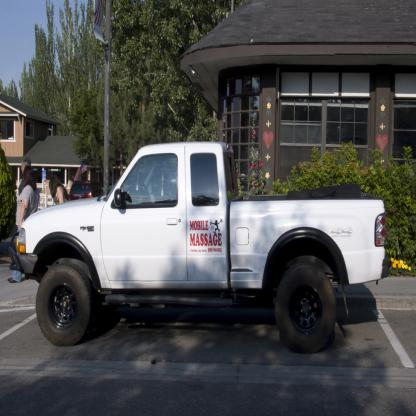Truck: (9, 140, 386, 353)
